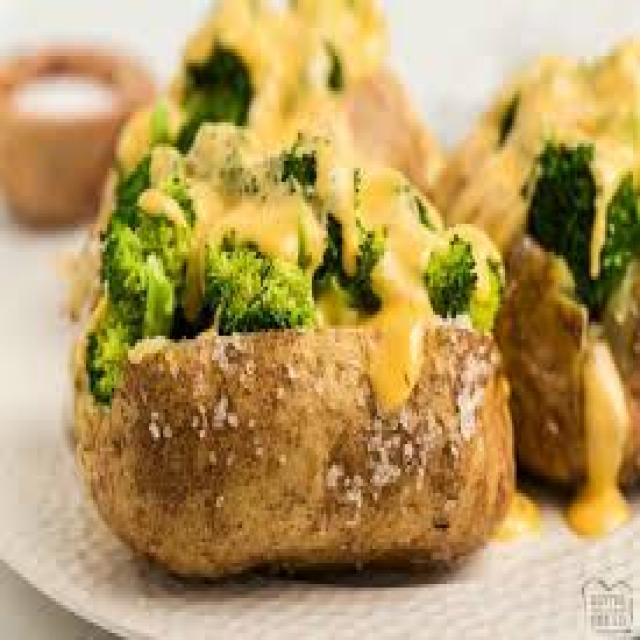Baked Potato: (103, 115, 508, 550)
